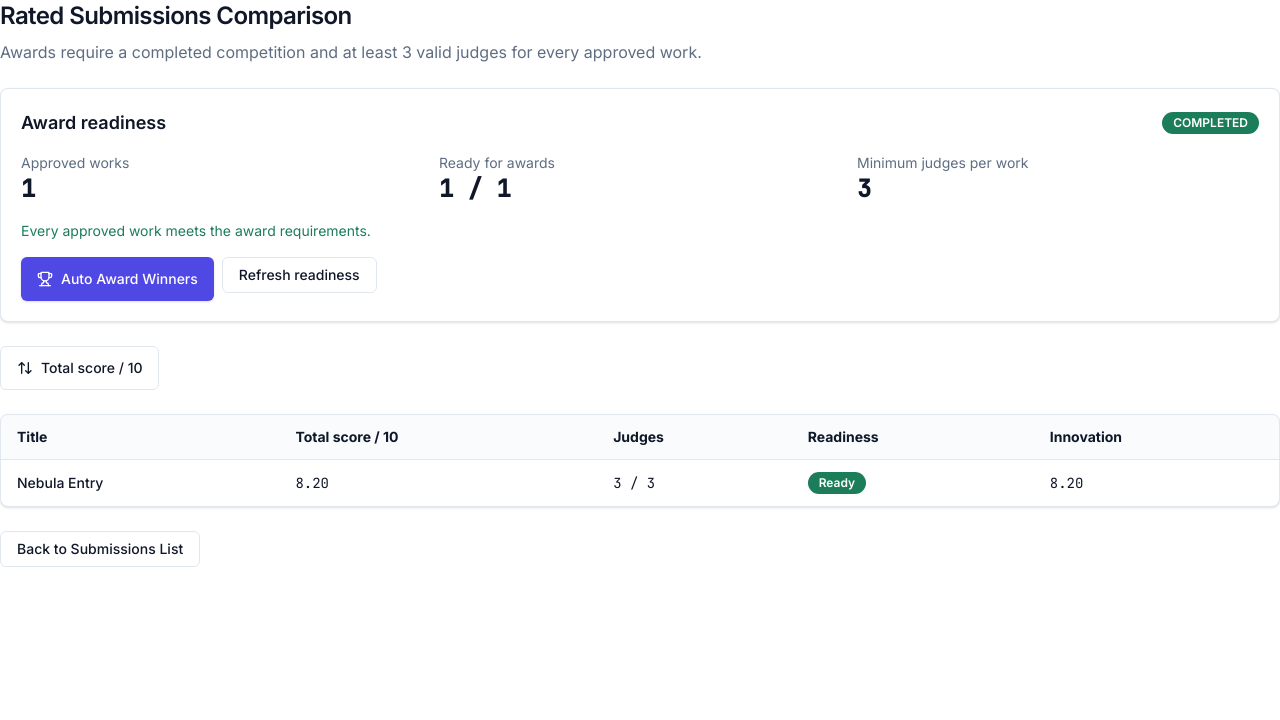
surfaces the actual conflict and refreshes readiness after failed awarding
The image size is (1280, 720).
Click the button "Auto Award Winners" at [117, 279], box [21, 257, 214, 301]
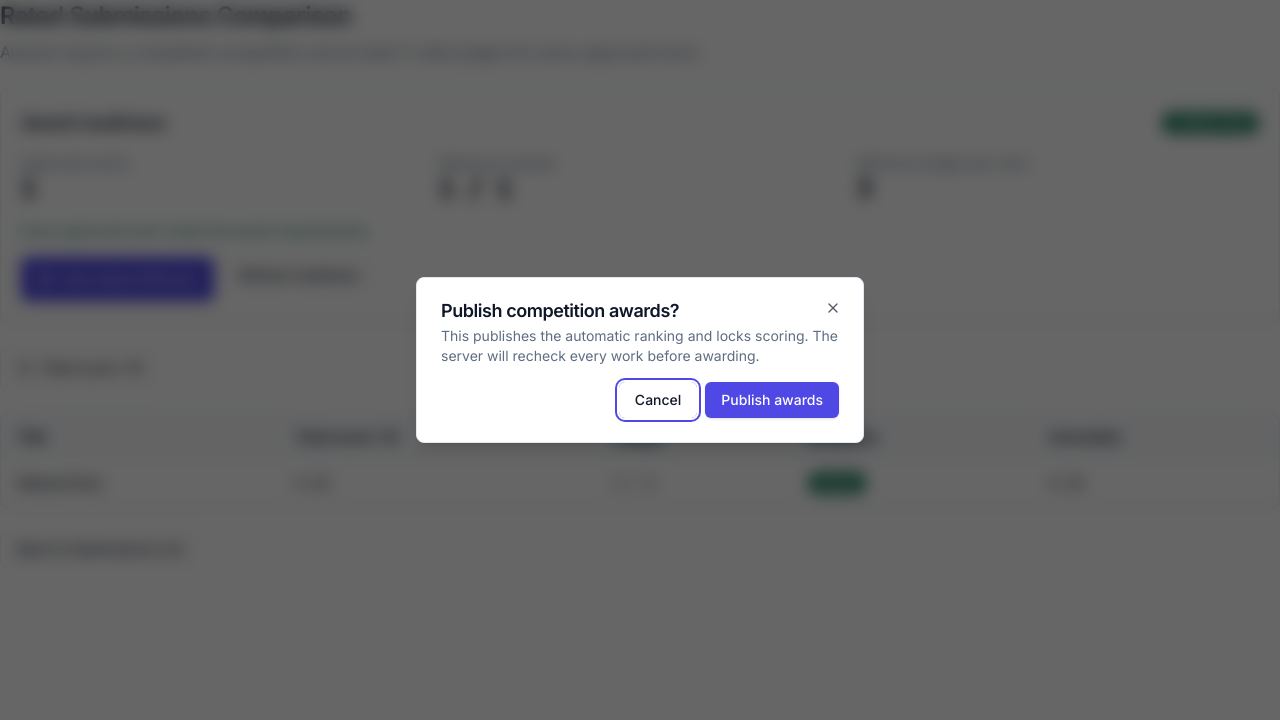
Click the button "Publish awards" at [772, 400], box [705, 382, 839, 418]
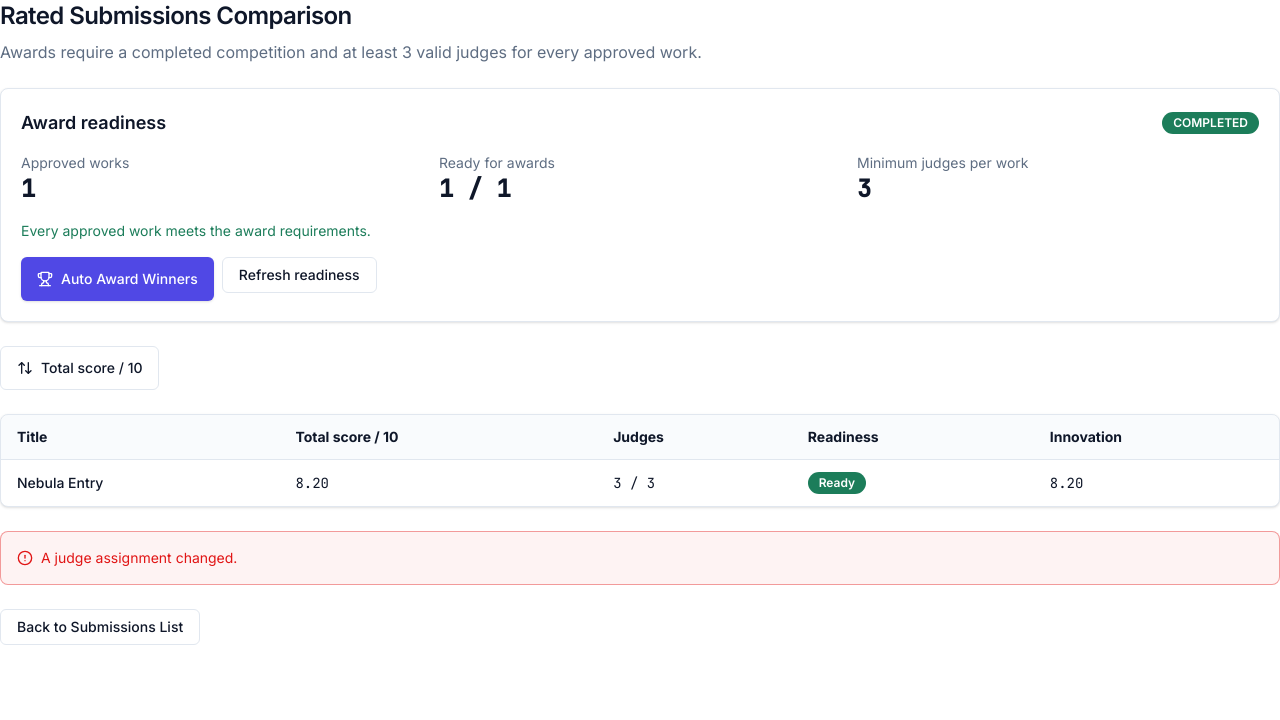
Expected: the message reads "A judge assignment changed.", [41, 549, 237, 566]
